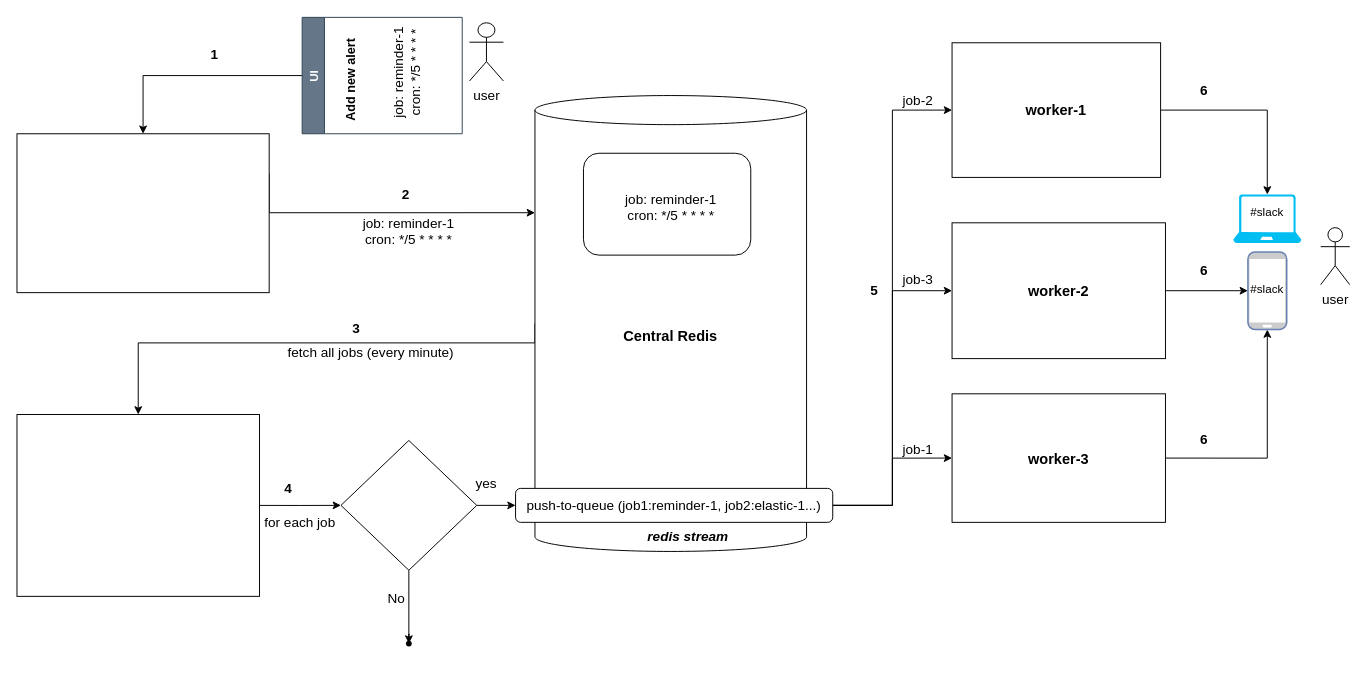
Some shapes in this 1367 by 680 pixel diagram are drawn without their labels. Here are the shapes that lost their labels. From the top down, the centre of each, then its label:
(142,213): imalert-ui
(137,505): imcontroller
(408,505): isTimeMatch ?
